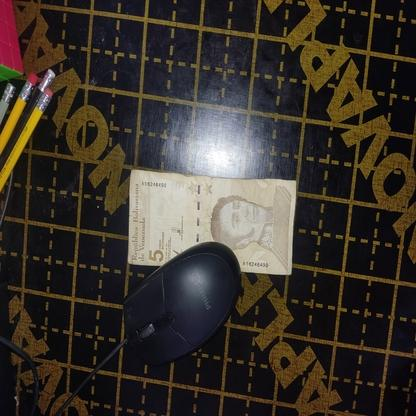five-front-vef: (128, 169, 295, 274)
